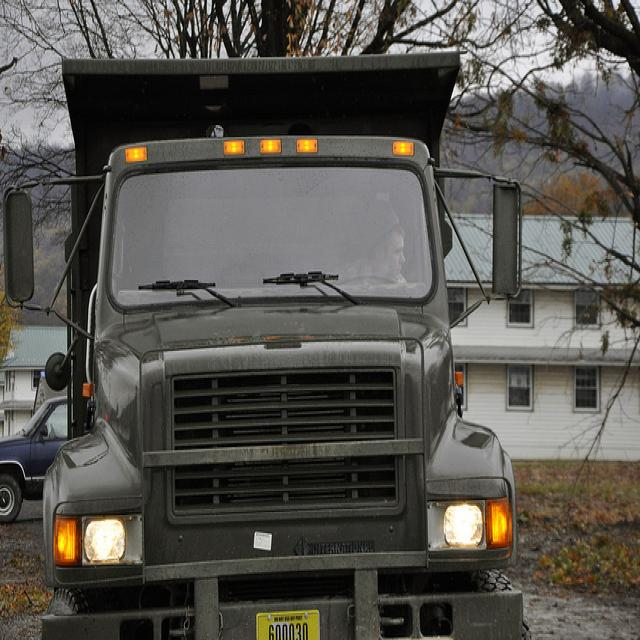Vehicle: (5, 50, 526, 638), (0, 395, 68, 525)
